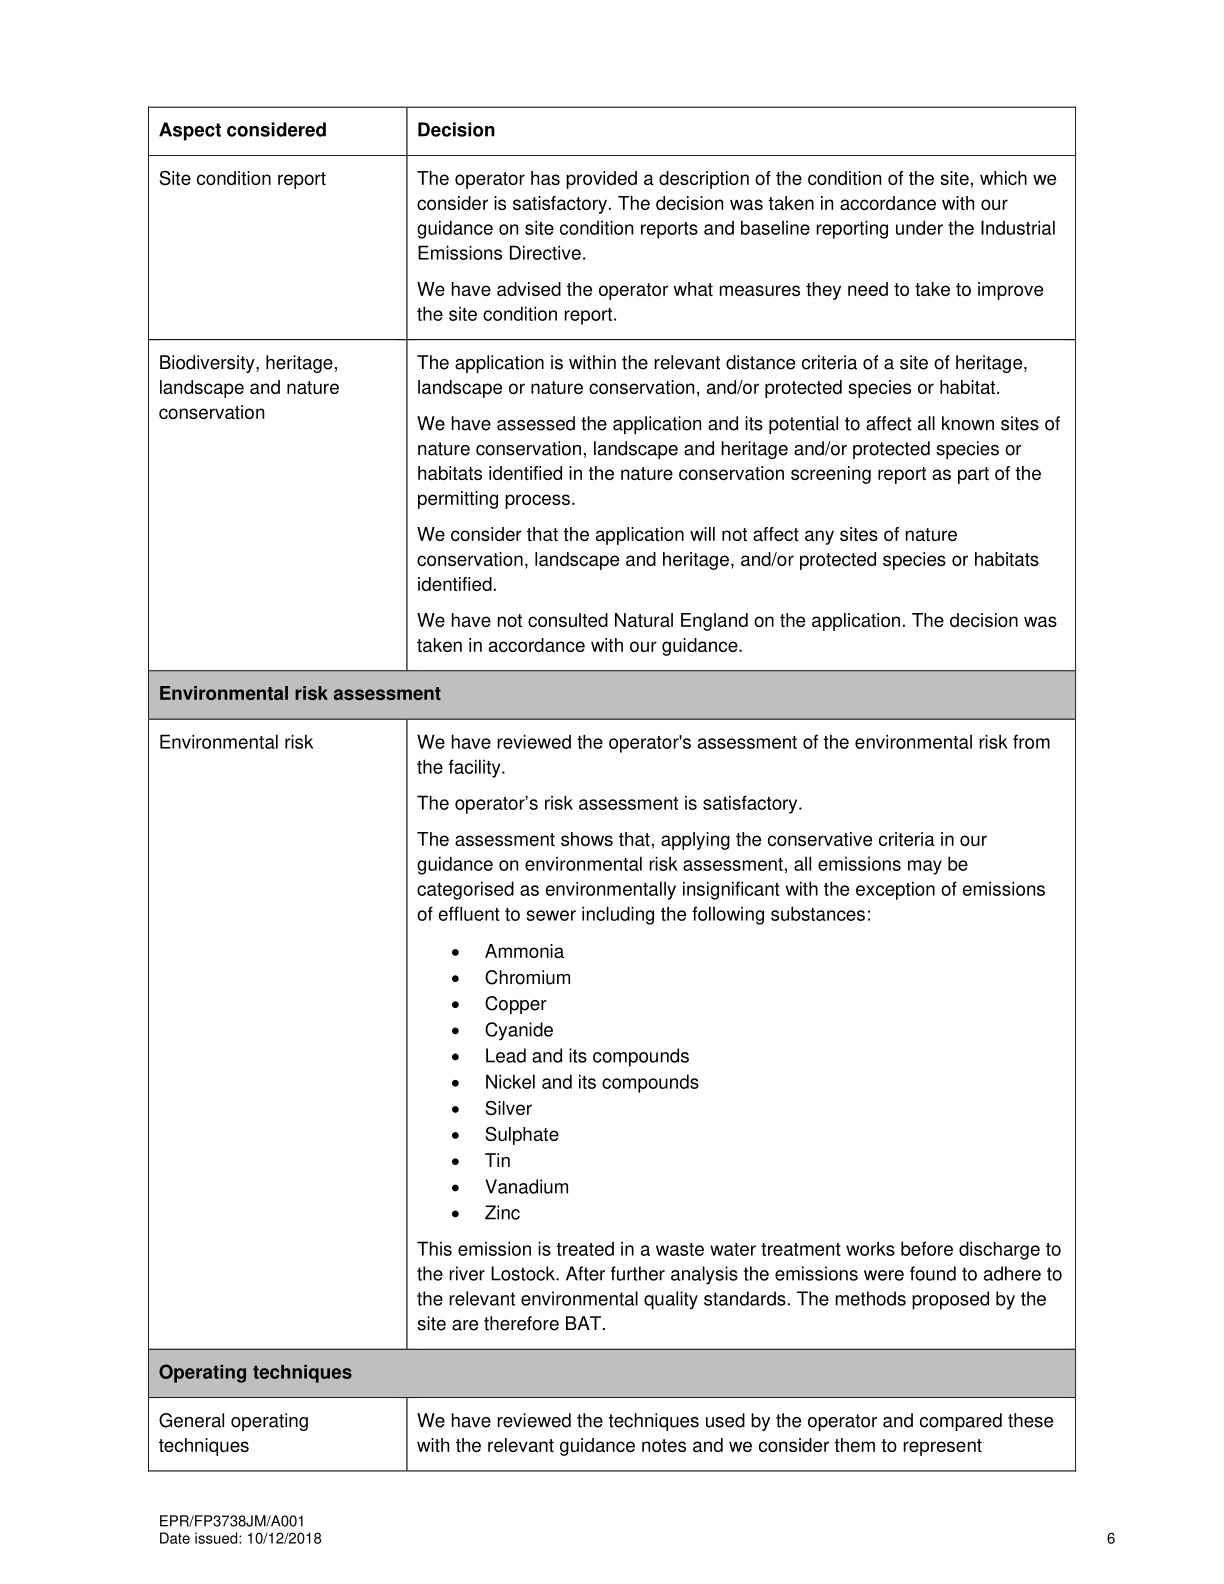merged_cells: (147, 105, 1076, 1472)
